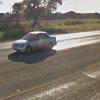Car: (7, 26, 58, 57)
